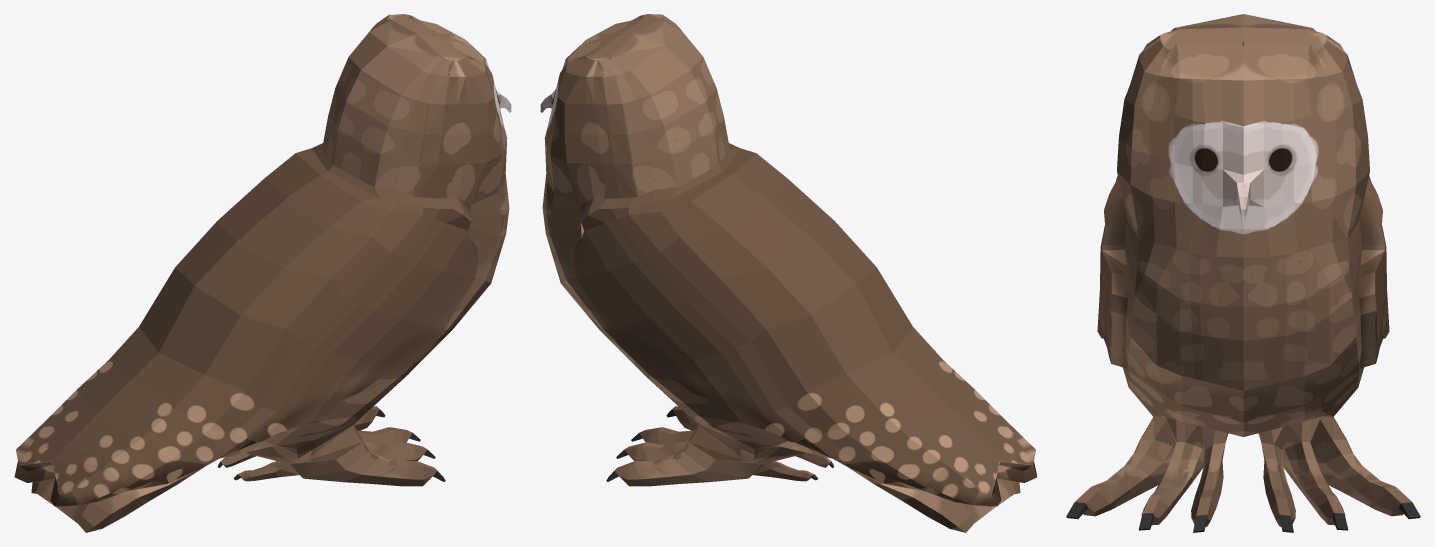
File: Morepork (1).fbx
3 renders of one model, left to right at view 1: azimuth 30°, elevation 25°; view 2: azimuth 150°, elevation 25°; view 3: azimuth 270°, elevation 25°, orthographic. The views are drawn at different scales.
Parts seen in each view (by area): view 1: Cylinder; view 2: Cylinder; view 3: Cylinder.
Boxes of the visible parts, bbox=[...] form: Cylinder: bbox=[14, 14, 511, 532]; Cylinder: bbox=[540, 14, 1037, 532]; Cylinder: bbox=[1066, 14, 1420, 532].
Bounding box in the file's own units: 537 × 427 × 261.
